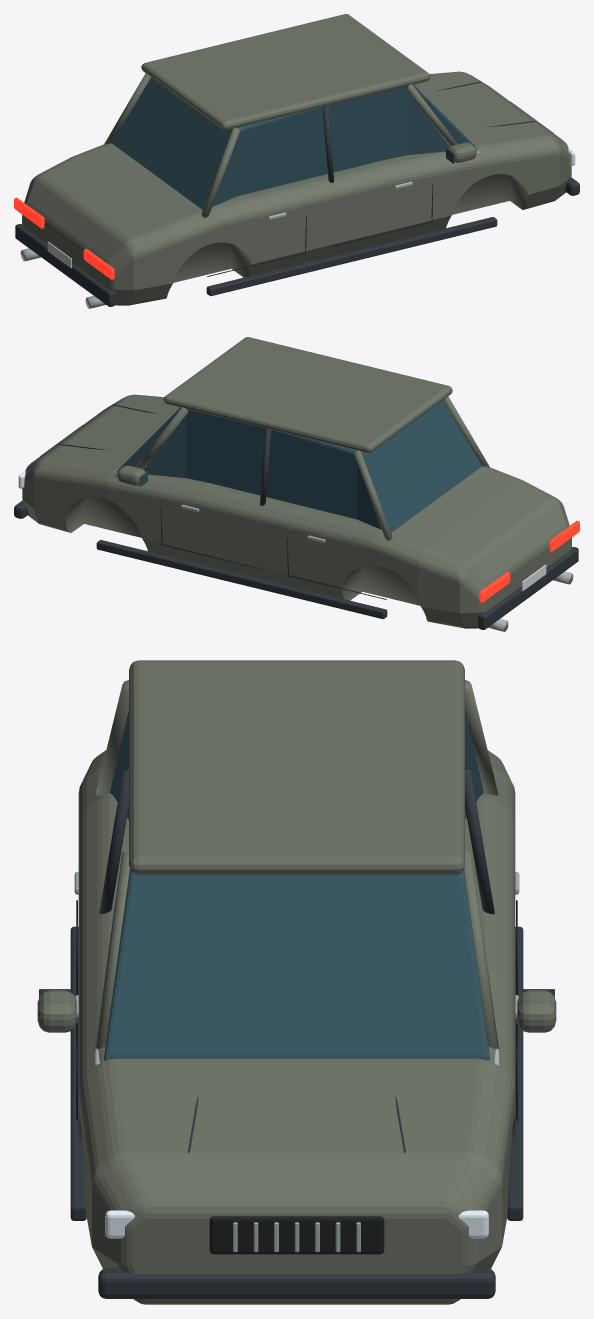
The model's file is SM_SUV.fbx.
3 renders of one model, top to bottom at view 1: azimuth 30°, elevation 25°; view 2: azimuth 150°, elevation 25°; view 3: azimuth 270°, elevation 25°, orthographic. The views are drawn at different scales.
Visible parts, largest first — view 1: SM_SUV; view 2: SM_SUV; view 3: SM_SUV.
Boxes of the visible parts, bbox=[...] form: SM_SUV: bbox=[14, 14, 579, 308]; SM_SUV: bbox=[14, 337, 579, 631]; SM_SUV: bbox=[37, 660, 556, 1304].
Size of the model in its own units: 511 by 240 by 165.
